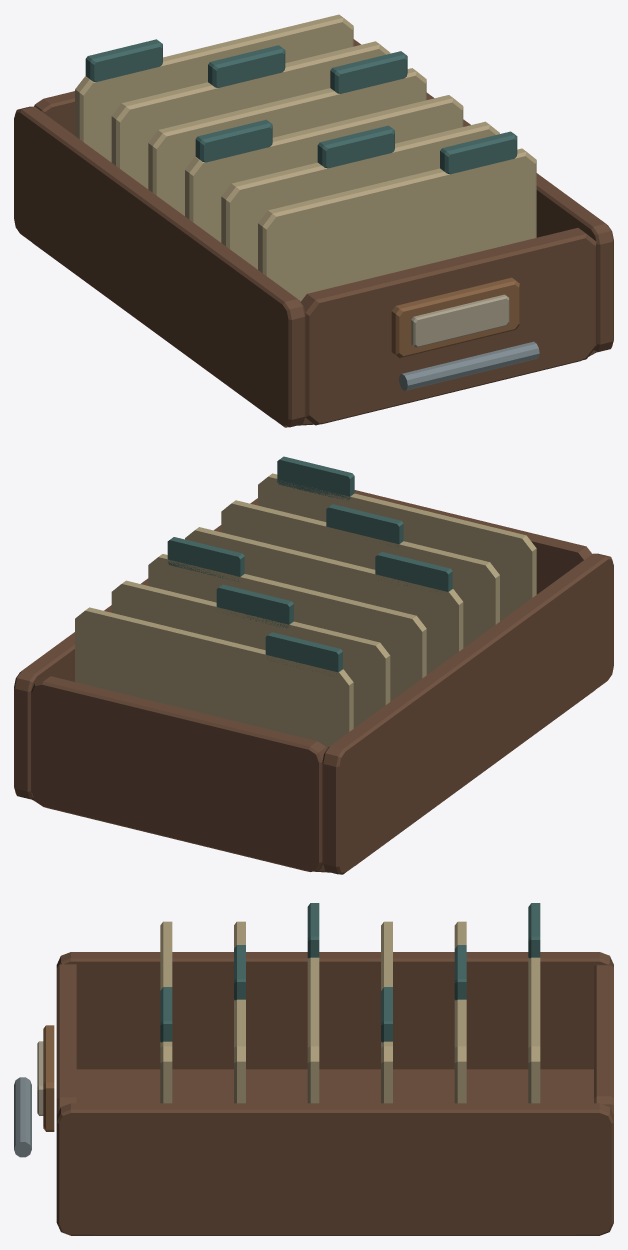
Rendered from R-06_card_drawer.glb.
The picture shows the model from 3 angles, top to bottom: view 1: azimuth 30°, elevation 25°; view 2: azimuth 150°, elevation 25°; view 3: azimuth 270°, elevation 25°; orthographic projection.
Visible parts, largest first — view 1: R-06_card_drawer; view 2: R-06_card_drawer; view 3: R-06_card_drawer.
Boxes of the visible parts, x1,y1,x2,y2 form: R-06_card_drawer: [14, 14, 613, 427]; R-06_card_drawer: [14, 456, 613, 874]; R-06_card_drawer: [14, 903, 613, 1235].
Bounding box in the file's own units: 0.38 × 0.214 × 0.603.
